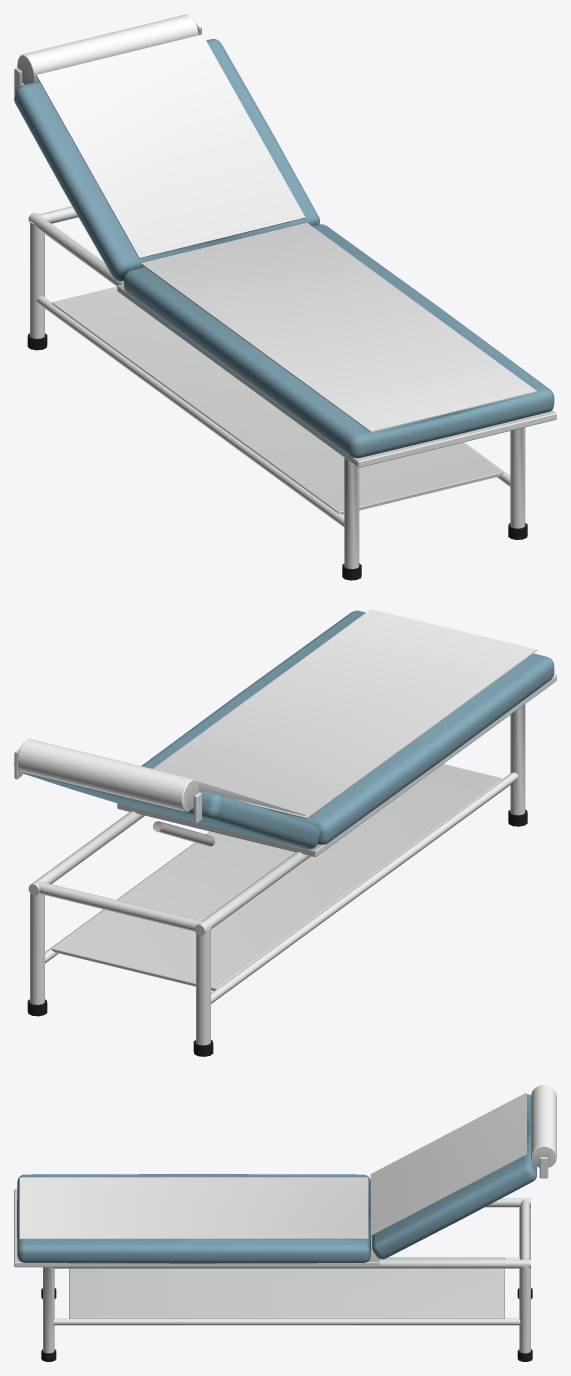
Rendered from examCouch.glb.
The picture shows the model from 3 angles, top to bottom: view 1: azimuth 30°, elevation 25°; view 2: azimuth 150°, elevation 25°; view 3: azimuth 270°, elevation 25°; orthographic projection. The views are drawn at different scales.
Parts seen in each view (by area): view 1: couch; view 2: couch; view 3: couch.
Boxes of the visible parts, x1=… form: couch: x1=14, y1=14, x2=556, y2=580; couch: x1=14, y1=609, x2=556, y2=1056; couch: x1=14, y1=1085, x2=556, y2=1361.
Bounding box in the file's own units: 0.62 × 0.8089 × 1.87.
